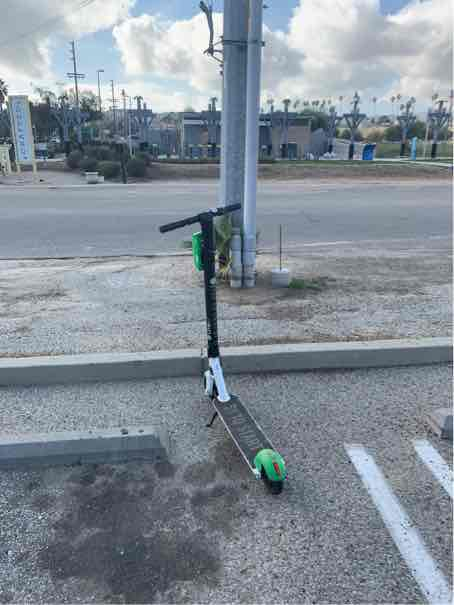scooter: (154, 198, 306, 496)
